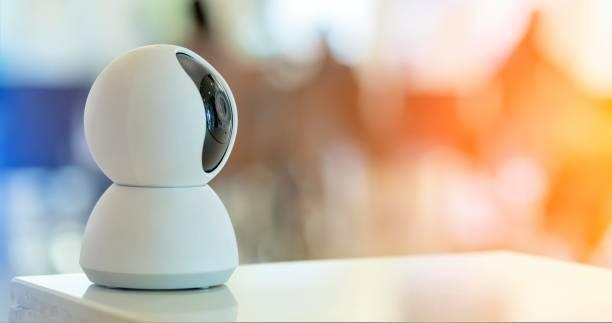camera: (67, 40, 244, 291)
